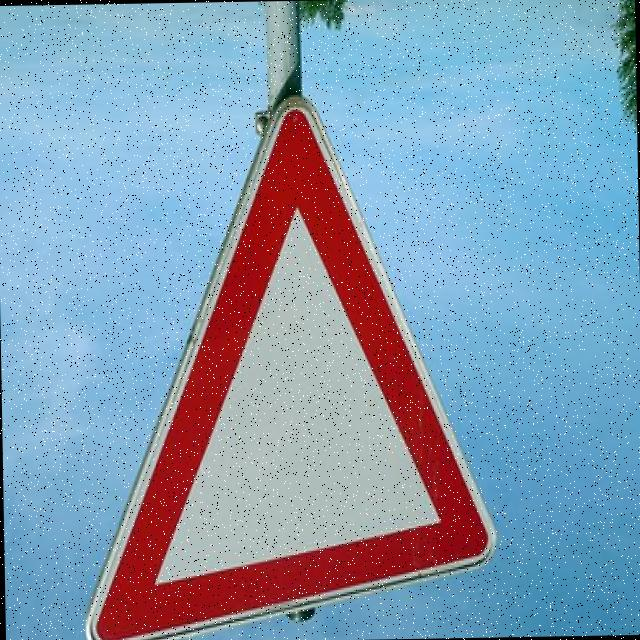give_way: (61, 83, 504, 640)
